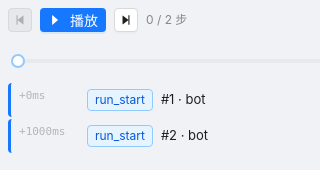
Test: EventReplayTimeline › 点击单步前进
Expected: the 1st button is disabled, [8,8,32,32]
Click the 3rd button: (126, 20) [114,8,138,32]
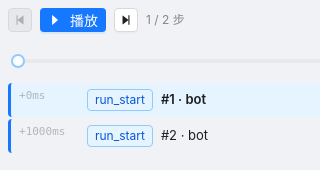
Expected: the text "1 / 2 步" is shown, [146,12,185,27]
